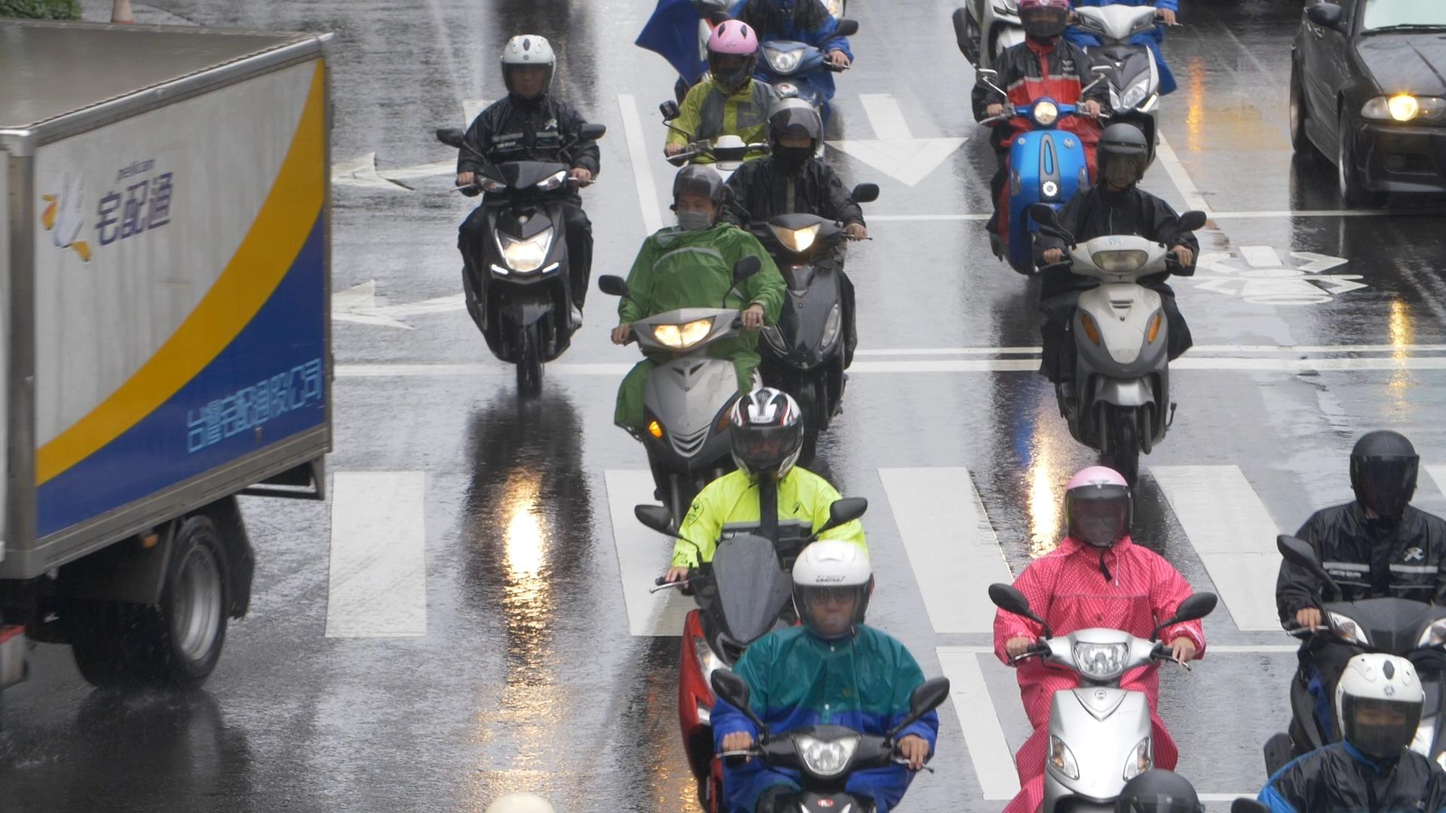driver: (636, 384, 869, 813), (988, 461, 1218, 813), (1261, 423, 1446, 813), (600, 162, 786, 530), (1024, 120, 1206, 495), (708, 534, 949, 813), (435, 30, 608, 403), (725, 97, 880, 468), (976, 0, 1114, 274)
helmet: (1334, 652, 1426, 762), (790, 537, 877, 645), (1063, 464, 1136, 584), (728, 386, 806, 492), (1348, 428, 1419, 523), (500, 32, 558, 104), (766, 97, 824, 168), (670, 163, 726, 234), (705, 20, 760, 91), (1094, 121, 1147, 191), (1016, 0, 1071, 42)
